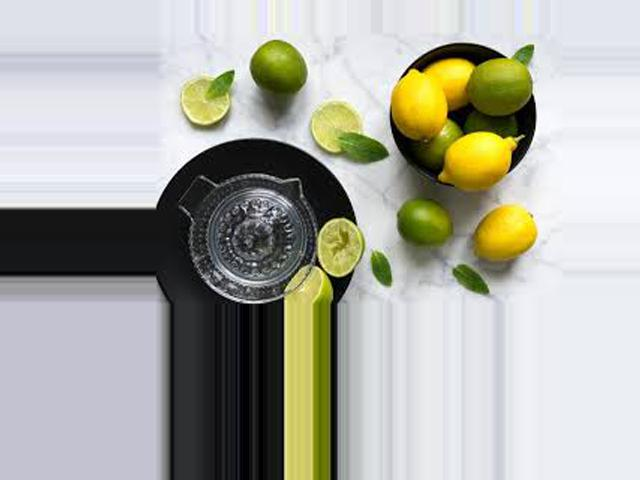lemon: (246, 40, 309, 89)
